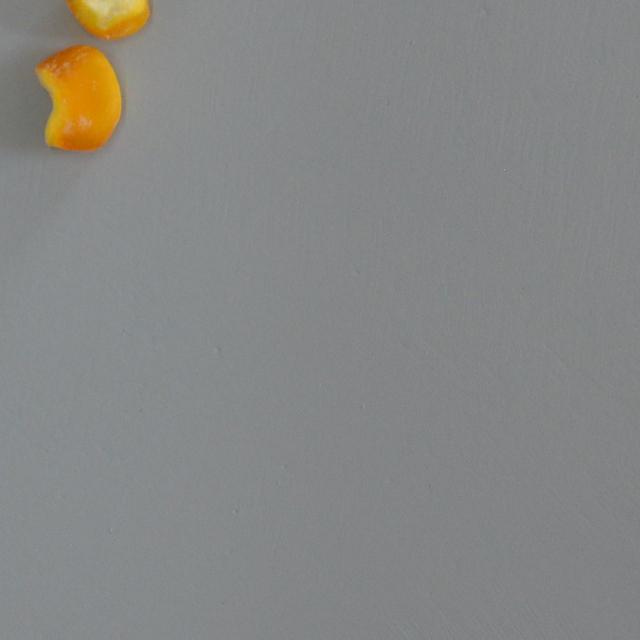pelicula: (34, 44, 122, 151), (65, 0, 150, 40)
